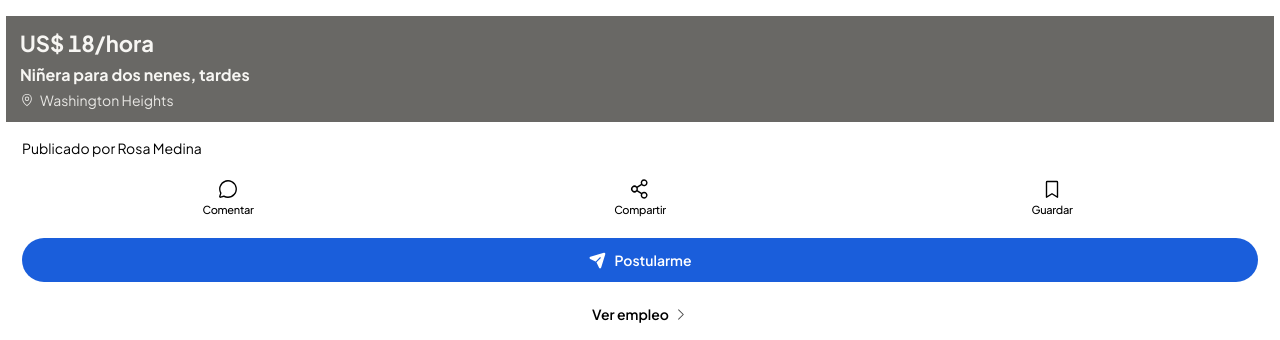
Scenario: JobCard: postularse se resuelve en la lista › si ya se había postulado no abre formulario: lo dice y listo
The width and height of the screenshot is (1280, 340).
(page scrolled)
Click the button with aria-label "postularme a ": [640, 260] box [22, 238, 1258, 282]
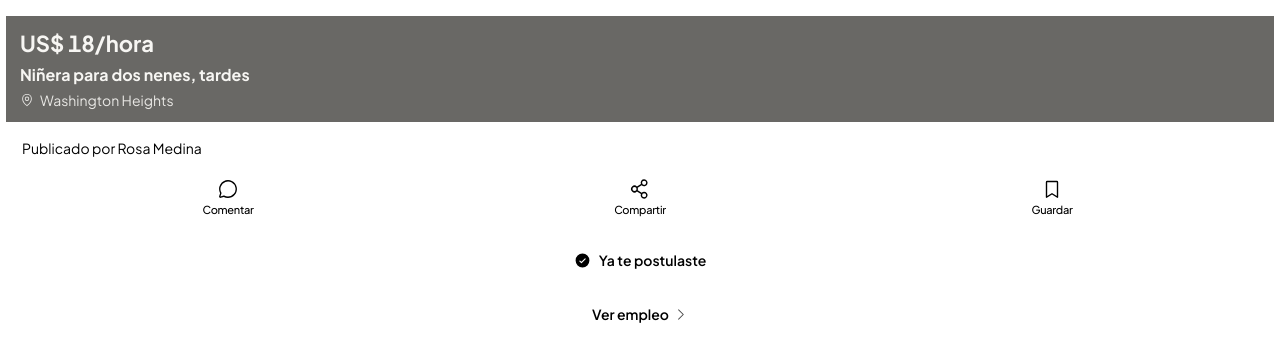
Result: the text "Ya te postulaste" is shown at [574, 251, 706, 269]
